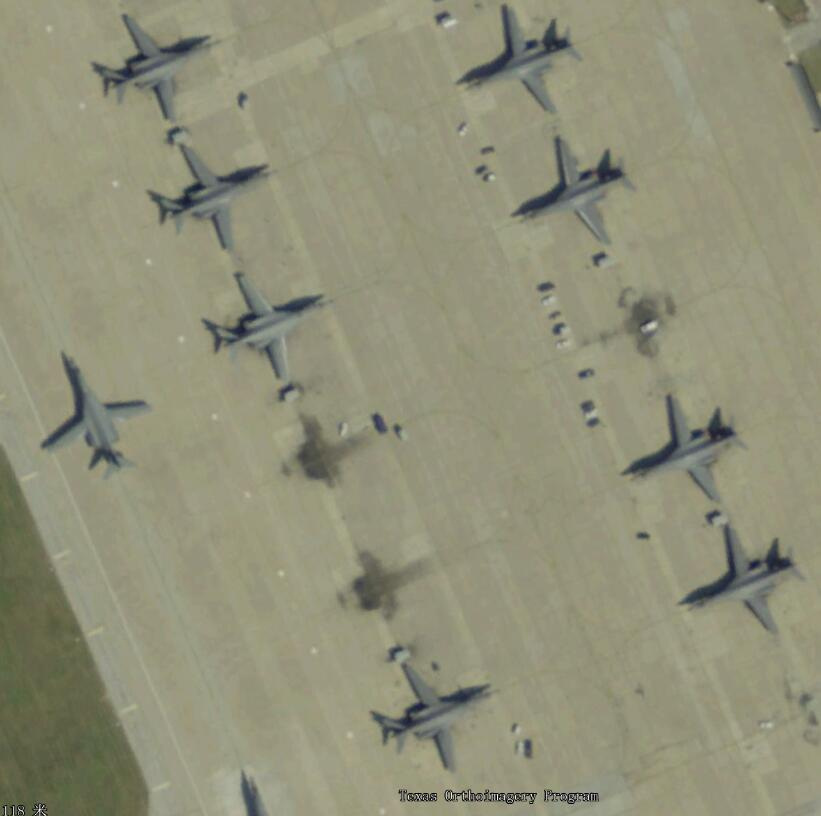A10: (35, 349, 159, 479), (507, 132, 643, 250), (674, 523, 810, 638), (87, 12, 225, 125), (450, 4, 586, 118), (615, 392, 752, 505), (200, 271, 335, 383), (372, 658, 501, 774), (147, 146, 281, 254)
